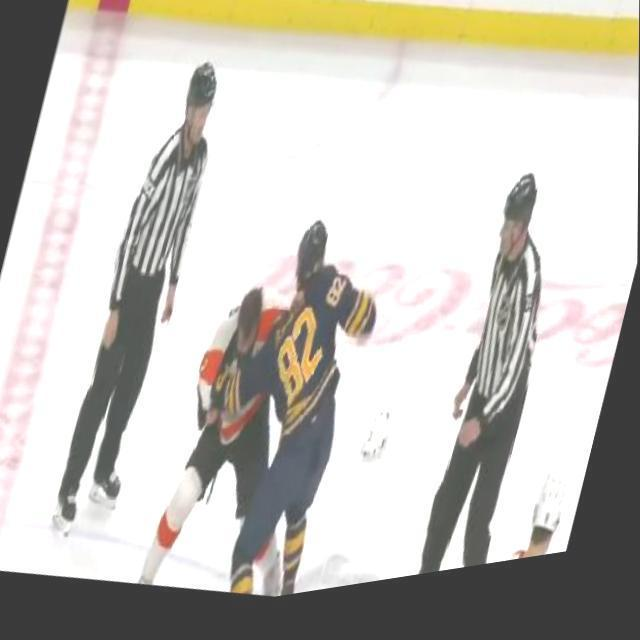fight: (146, 200, 402, 622)
